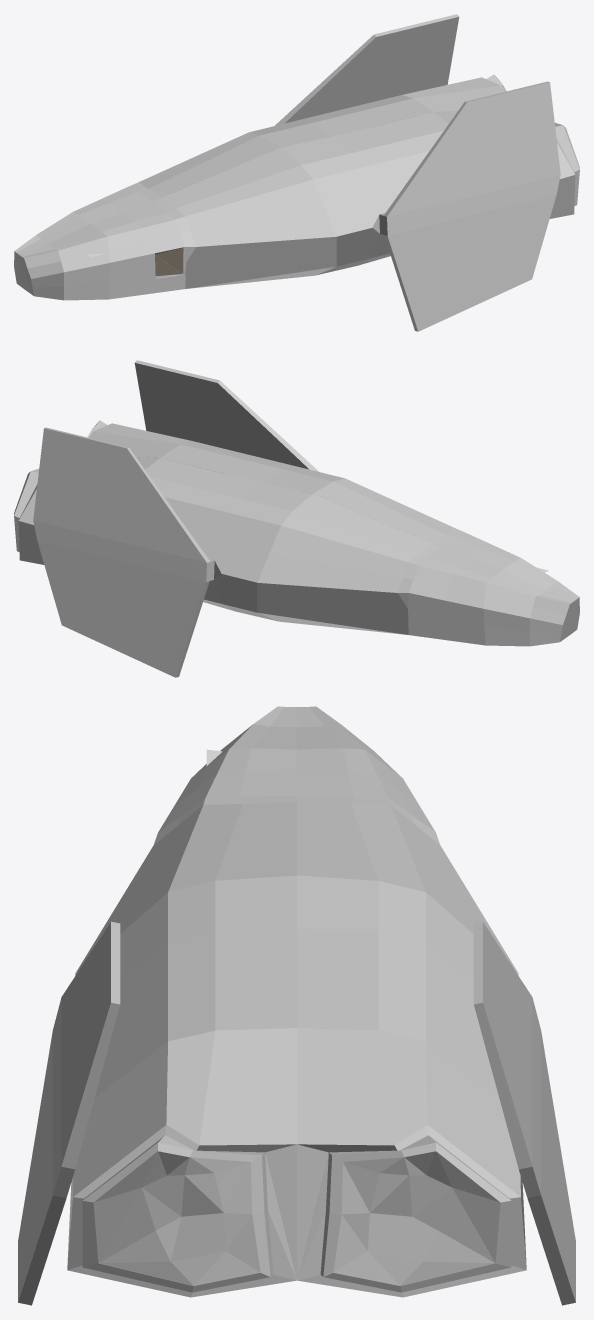
Rendered from map.fbx.
The picture shows the model from 3 angles, top to bottom: view 1: azimuth 30°, elevation 25°; view 2: azimuth 150°, elevation 25°; view 3: azimuth 270°, elevation 25°; orthographic projection. The views are drawn at different scales.
Visible parts, largest first — view 1: spaceShipOutside, floor; view 2: spaceShipOutside; view 3: spaceShipOutside.
Boxes of the visible parts, left/top/right/bottom form: spaceShipOutside: left=14, top=14, right=579, bottom=331; floor: left=155, top=248, right=185, bottom=276; spaceShipOutside: left=14, top=360, right=579, bottom=677; spaceShipOutside: left=18, top=706, right=575, bottom=1305.
Bounding box in the file's own units: 34888 × 12633 × 16276.
